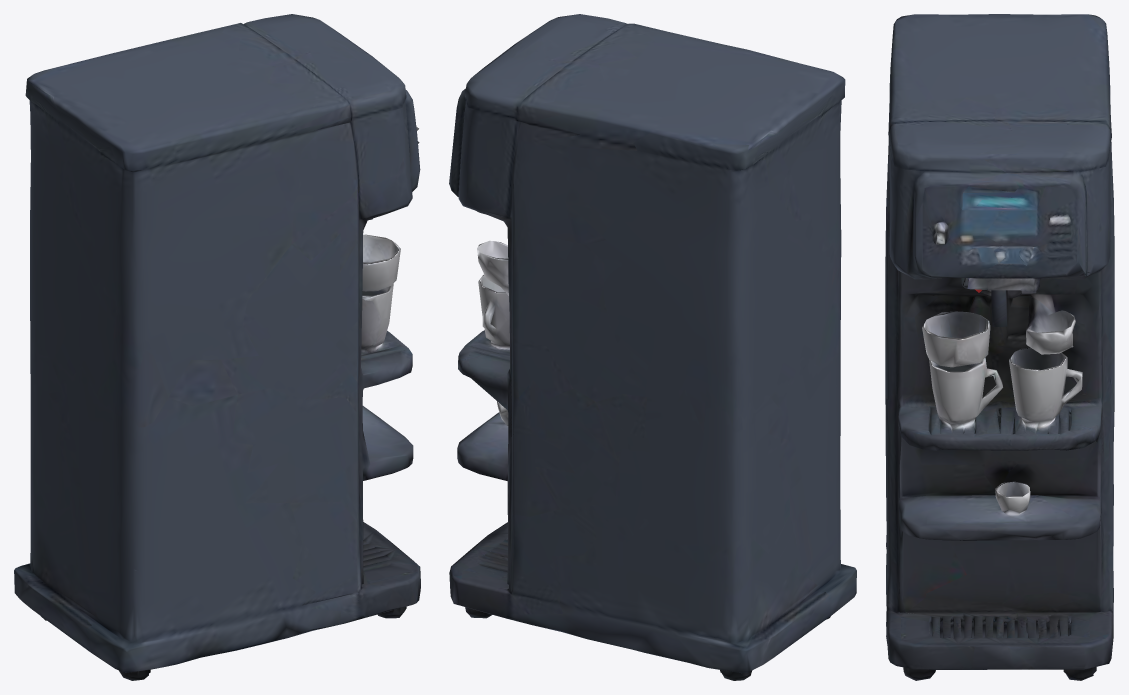
Rendered from coffee_machine.glb.
3 views of the same model, side by side, from view 1: azimuth 30°, elevation 25°; view 2: azimuth 150°, elevation 25°; view 3: azimuth 270°, elevation 25° (orthographic).
Parts seen in each view (by area): view 1: tripo_node_a8b108ed-b893-452c-9369-c58c808bd46e; view 2: tripo_node_a8b108ed-b893-452c-9369-c58c808bd46e; view 3: tripo_node_a8b108ed-b893-452c-9369-c58c808bd46e.
Boxes of the visible parts, <box> form: tripo_node_a8b108ed-b893-452c-9369-c58c808bd46e: <box>14,14,420,680</box>; tripo_node_a8b108ed-b893-452c-9369-c58c808bd46e: <box>449,14,856,680</box>; tripo_node_a8b108ed-b893-452c-9369-c58c808bd46e: <box>885,14,1114,680</box>.
Bounding box in the file's own units: 0.6284 × 1 × 0.3917.
Materials: 1 (1 with a texture image).
